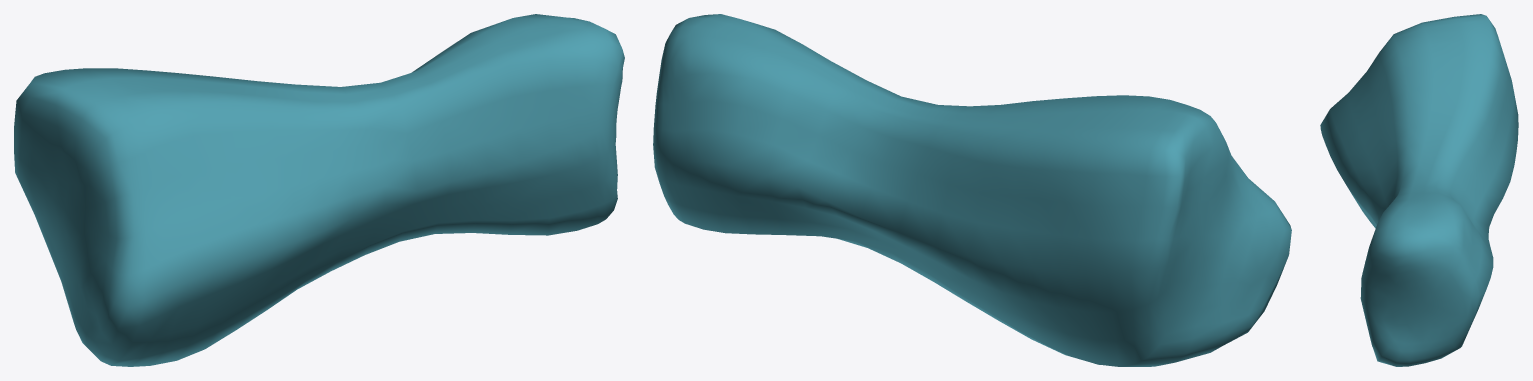
File: VIS_Alpha_Surface_014.dae
The picture shows the model from 3 angles, left to right: view 1: azimuth 30°, elevation 25°; view 2: azimuth 150°, elevation 25°; view 3: azimuth 270°, elevation 25°; orthographic projection. The views are drawn at different scales.
Visible parts, largest first — view 1: VIS_Alpha_Surface_014; view 2: VIS_Alpha_Surface_014; view 3: VIS_Alpha_Surface_014.
Boxes of the visible parts, <box> form: VIS_Alpha_Surface_014: <box>14,14,624,366</box>; VIS_Alpha_Surface_014: <box>653,14,1291,366</box>; VIS_Alpha_Surface_014: <box>1320,14,1518,366</box>.
Bounding box in the file's own units: 0.2675 × 0.1091 × 0.119.
